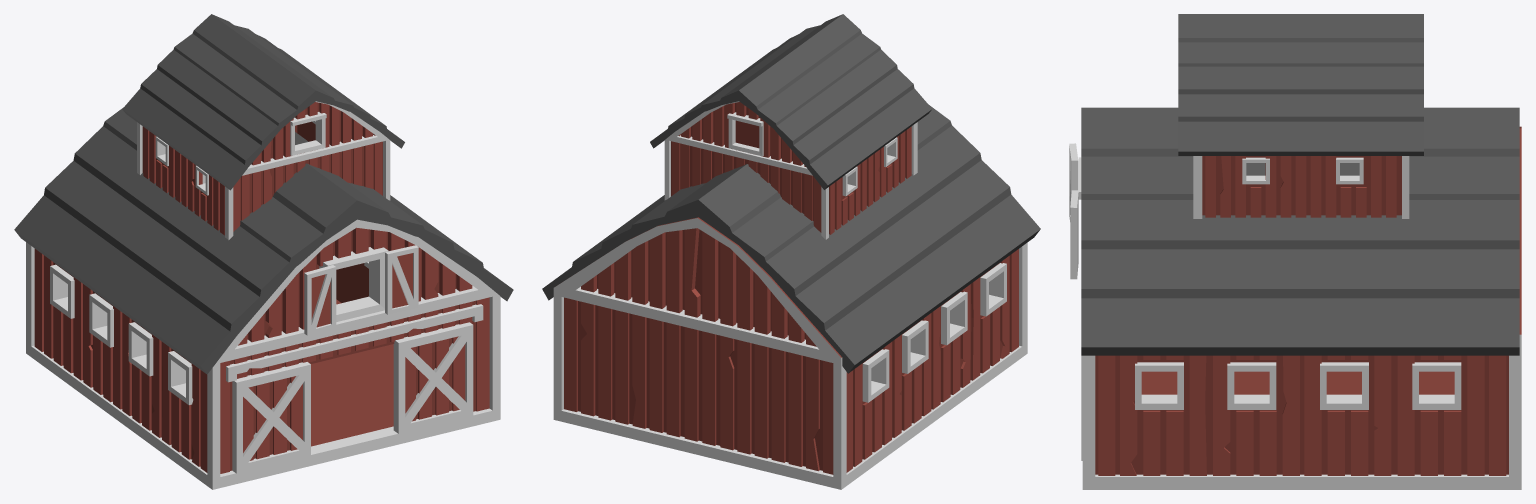
File: BigBarn.glb
The picture shows the model from 3 angles, left to right: view 1: azimuth 30°, elevation 25°; view 2: azimuth 150°, elevation 25°; view 3: azimuth 270°, elevation 25°; orthographic projection. The views are drawn at different scales.
Parts seen in each view (by area): view 1: BigBarn, BigBarn_Door, BigBarn_Door2, BigBarn_Window, BigBarn_Window2; view 2: BigBarn; view 3: BigBarn, BigBarn_Window, BigBarn_Window2.
Boxes of the visible parts, x1,y1,x2,y2 form: BigBarn: [14, 14, 513, 489]; BigBarn_Door: [393, 322, 473, 433]; BigBarn_Door2: [232, 362, 310, 473]; BigBarn_Window: [385, 245, 418, 314]; BigBarn_Window2: [304, 265, 336, 335]; BigBarn: [542, 14, 1040, 489]; BigBarn: [1078, 14, 1521, 489]; BigBarn_Window: [1070, 190, 1078, 279]; BigBarn_Window2: [1069, 143, 1078, 221].
Bounding box in the file's own units: 5.88 × 6 × 6.26.
